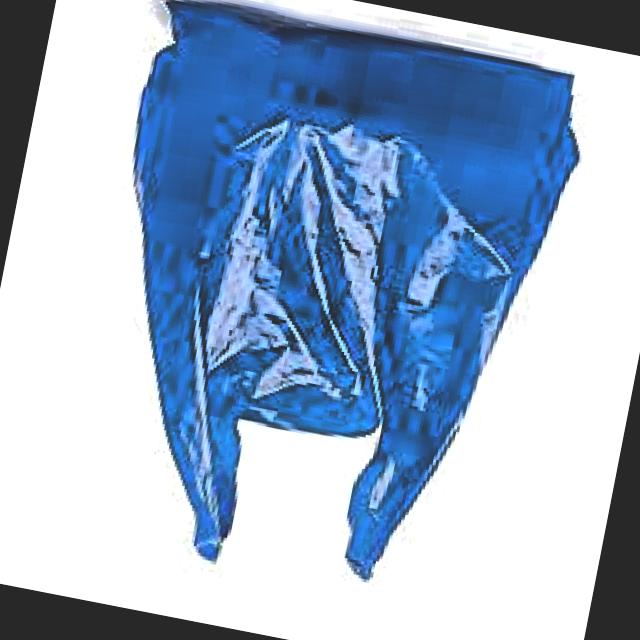plastic bag: (135, 5, 578, 576)
